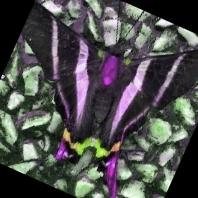butterfly: (20, 2, 198, 198)
